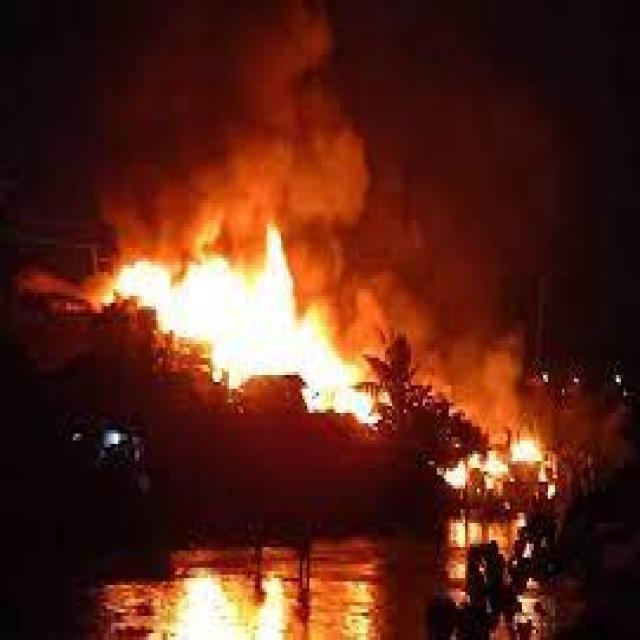Fire: (93, 202, 390, 428), (443, 424, 548, 502)
Smoke: (86, 0, 541, 384)
